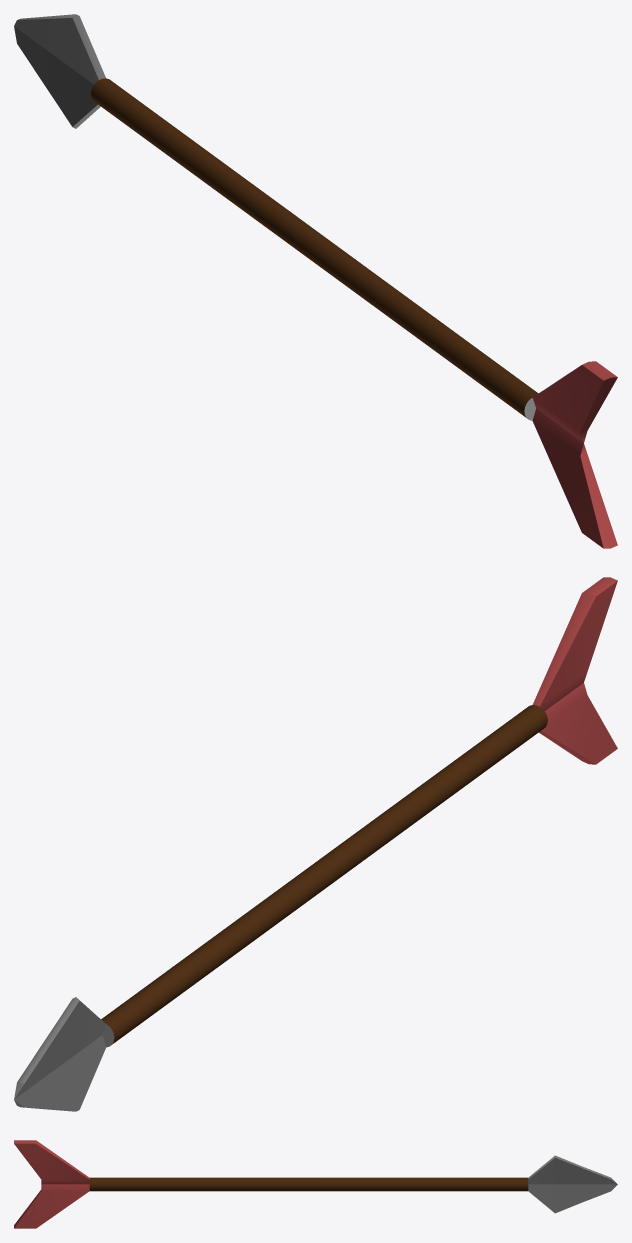
The model's file is Arrow.fbx.
3 views of the same model, one above another, from view 1: azimuth 30°, elevation 25°; view 2: azimuth 150°, elevation 25°; view 3: azimuth 270°, elevation 25° (orthographic). The views are drawn at different scales.
Parts seen in each view (by area): view 1: pCylinder1; view 2: pCylinder1; view 3: pCylinder1.
Boxes of the visible parts, x1,y1,x2,y2 form: pCylinder1: (14,14,617,548); pCylinder1: (14,577,617,1111); pCylinder1: (14,1140,617,1228).
Bounding box in the file's own units: 0.2892 × 2 × 12.68.
